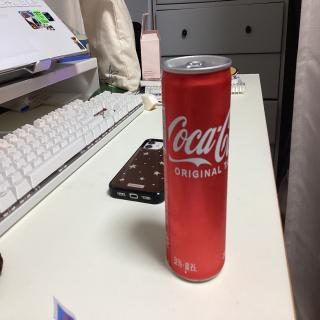cocacola: (159, 51, 234, 286)
